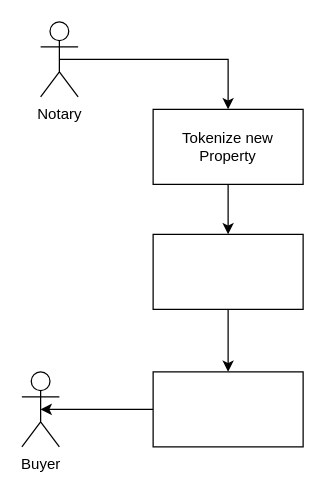
Image size: 325x495. Some labels were removed from this diagram. The shapes that lost their labels are listed below. From the top down, each one's centre as x and y in pixels, then its label:
At (227,271): "Validates and Process Legal documents".
At (227,409): "Mint new NFT".
